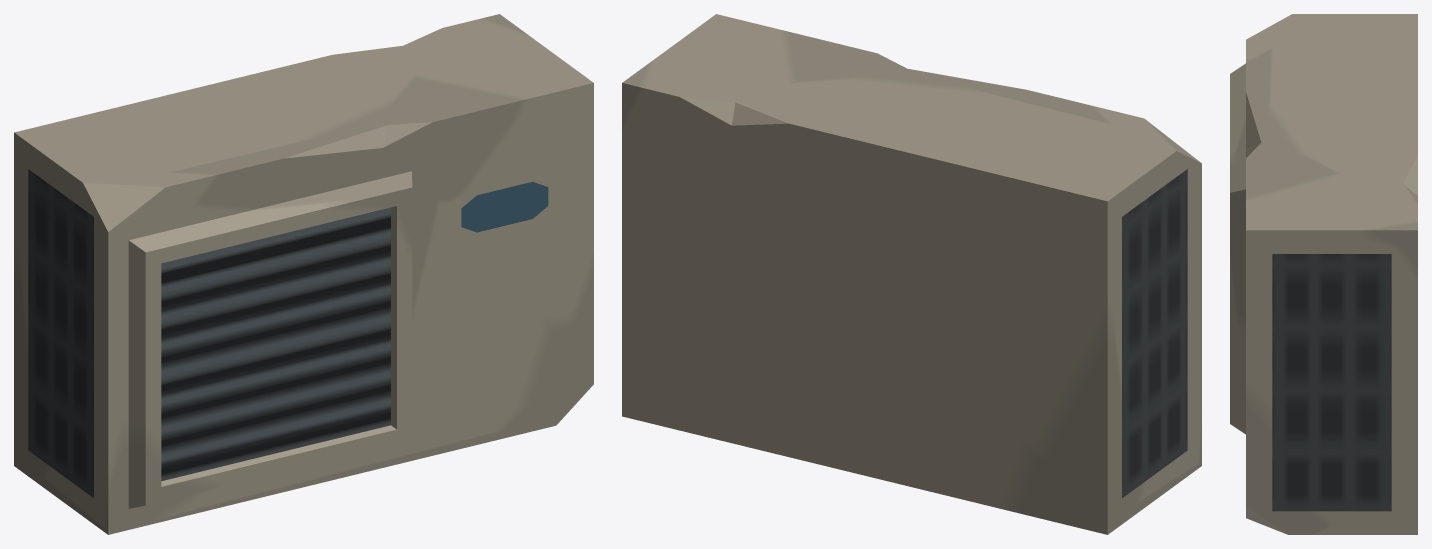
Rendered from SM_Prop_Airconditioner_01.glb.
3 renders of one model, left to right at view 1: azimuth 30°, elevation 25°; view 2: azimuth 150°, elevation 25°; view 3: azimuth 270°, elevation 25°, orthographic. The views are drawn at different scales.
Parts seen in each view (by area): view 1: SM_Prop_Airconditioner_01; view 2: SM_Prop_Airconditioner_01; view 3: SM_Prop_Airconditioner_01.
Boxes of the visible parts, x1,y1,x2,y2 form: SM_Prop_Airconditioner_01: [14, 14, 593, 534]; SM_Prop_Airconditioner_01: [622, 14, 1201, 534]; SM_Prop_Airconditioner_01: [1230, 14, 1417, 534].
Bounding box in the file's own units: 1.07 × 0.7052 × 0.3944.
1 material, 1 textured.
